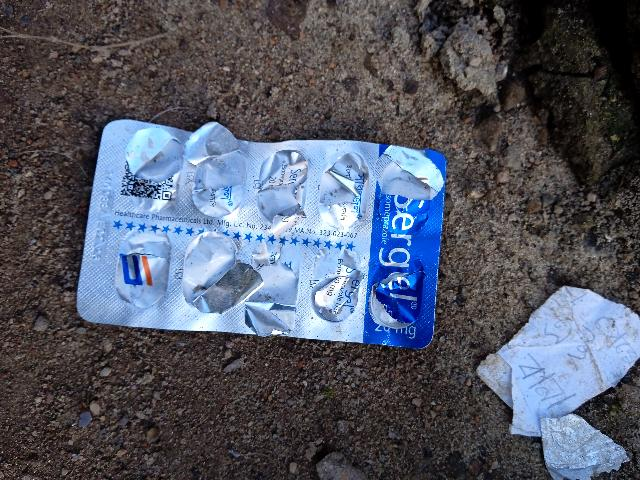medicine: (75, 115, 459, 359)
